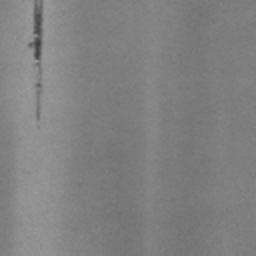Slag inclusion: (27, 0, 46, 122)
